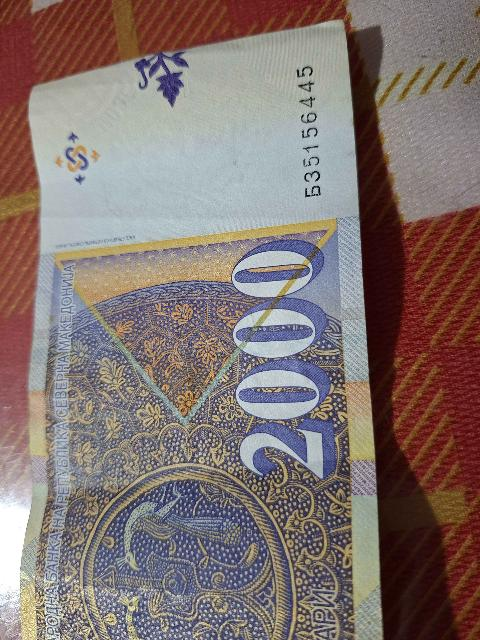2000_note: (19, 24, 376, 639)
